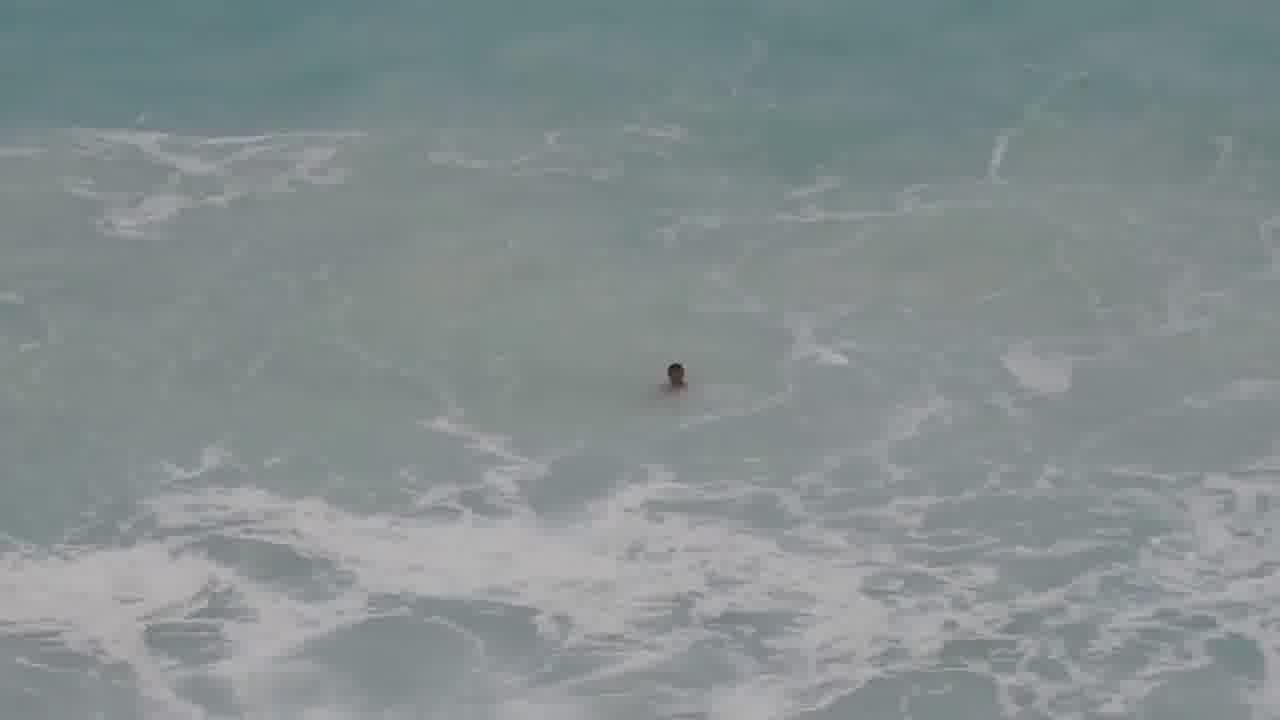human: (653, 354, 703, 400)
